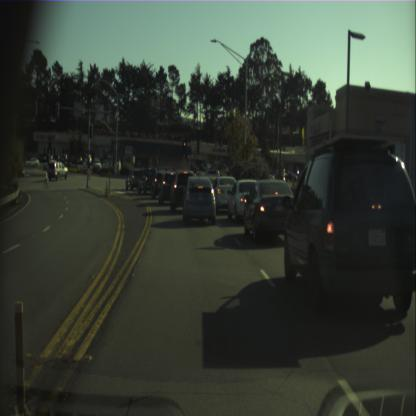Red: (182, 138, 186, 154)
